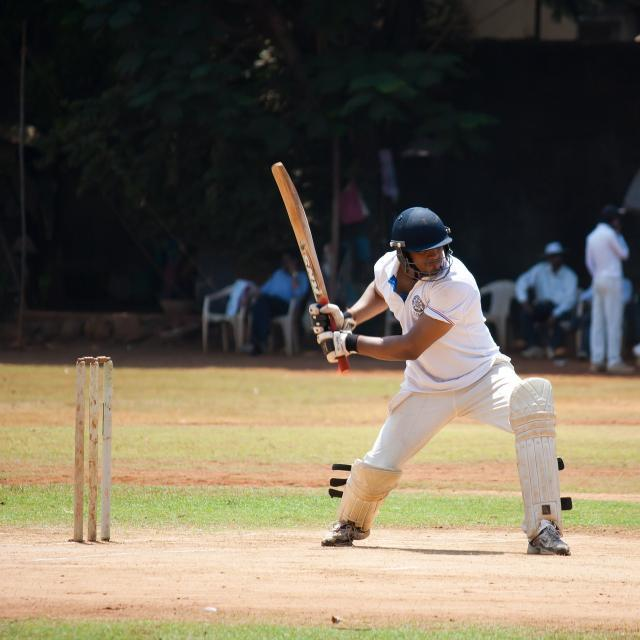stumps: (71, 356, 116, 543)
